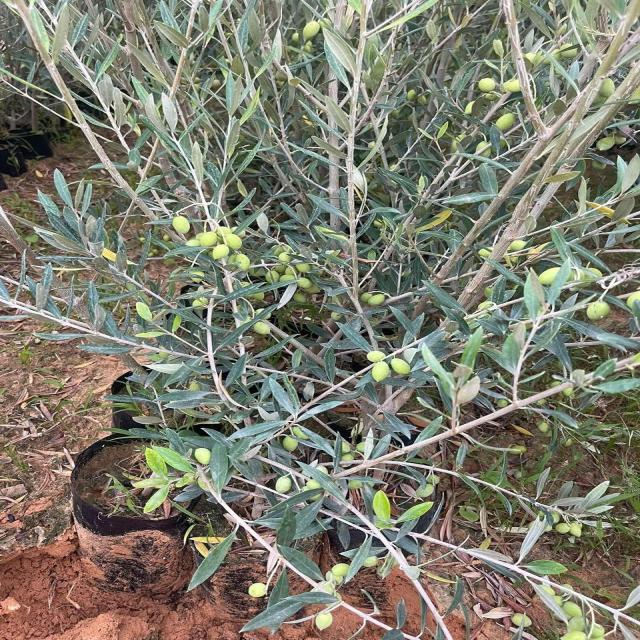Healthy: (536, 584, 605, 640), (196, 226, 250, 271), (271, 246, 319, 293), (367, 350, 409, 382), (587, 299, 610, 321), (326, 563, 349, 584), (555, 520, 582, 537), (495, 112, 518, 131), (538, 268, 560, 286), (361, 292, 388, 306), (597, 78, 615, 99), (172, 215, 191, 234), (303, 20, 321, 40), (315, 610, 332, 631), (247, 582, 268, 598), (193, 448, 211, 466), (275, 476, 293, 493), (511, 613, 531, 628), (503, 78, 521, 94), (252, 321, 271, 336), (478, 78, 497, 93), (597, 136, 616, 151), (284, 434, 299, 452)
